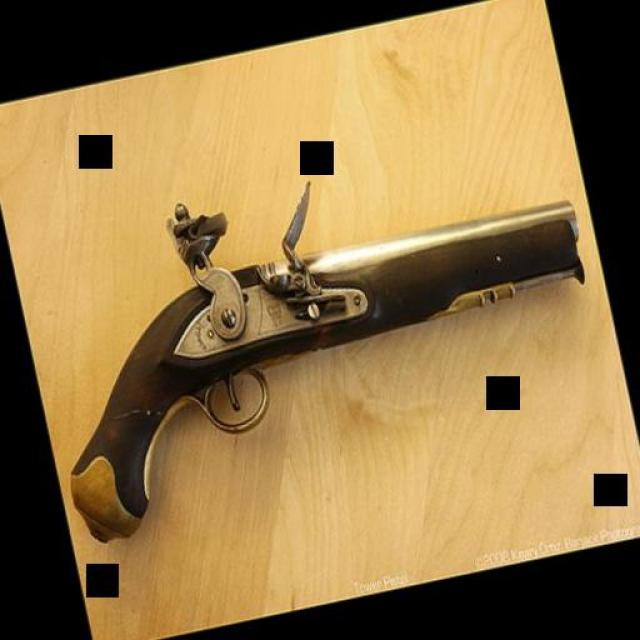gun: (12, 115, 622, 546)
